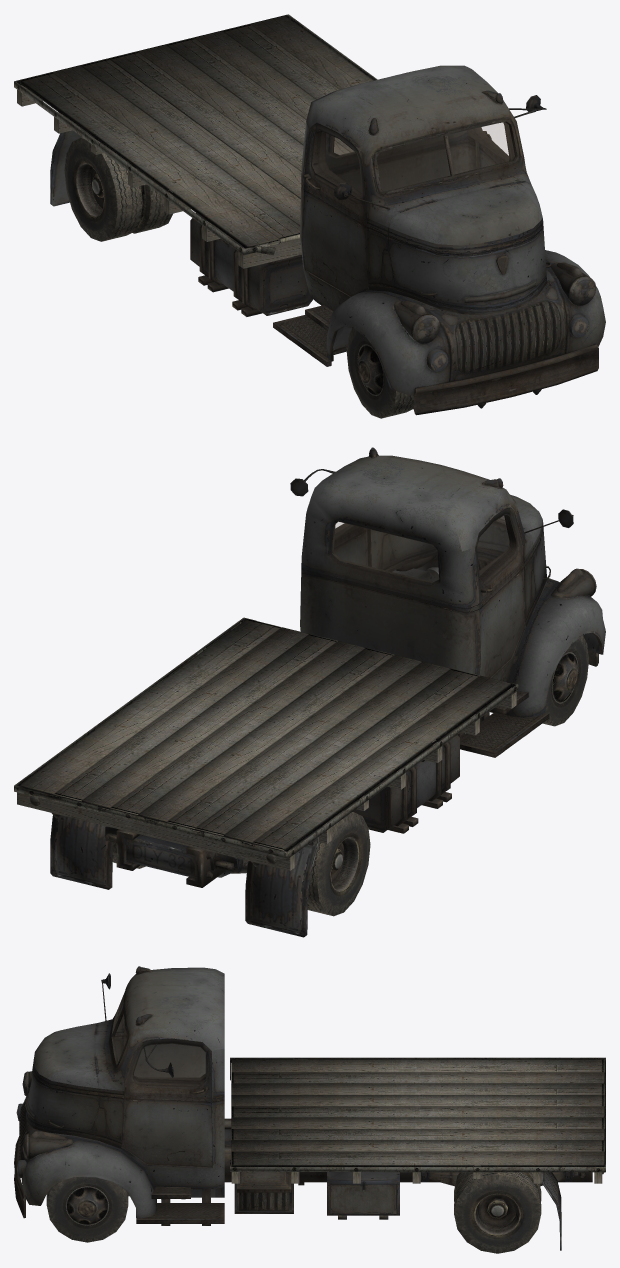
Rendered from old_truck_2.dae.
The picture shows the model from 3 angles, top to bottom: view 1: azimuth 30°, elevation 25°; view 2: azimuth 150°, elevation 25°; view 3: azimuth 270°, elevation 25°; orthographic projection. The views are drawn at different scales.
Visible parts, largest first — view 1: TruckMat1, TruckMat2, TruckGlass; view 2: TruckMat2, TruckMat1; view 3: TruckMat2, TruckMat1.
Boxes of the visible parts, x1,y1,x2,y2 form: TruckMat1: (50, 65, 605, 415); TruckMat2: (14, 14, 413, 418); TruckGlass: (329, 122, 512, 160); TruckMat2: (14, 617, 588, 916); TruckMat1: (29, 447, 605, 937); TruckMat2: (46, 1057, 605, 1253); TruckMat1: (14, 966, 604, 1250).
Bounding box in the file's own units: 5.49 × 12.52 × 4.99.
Materials: 3 (3 with a texture image).
